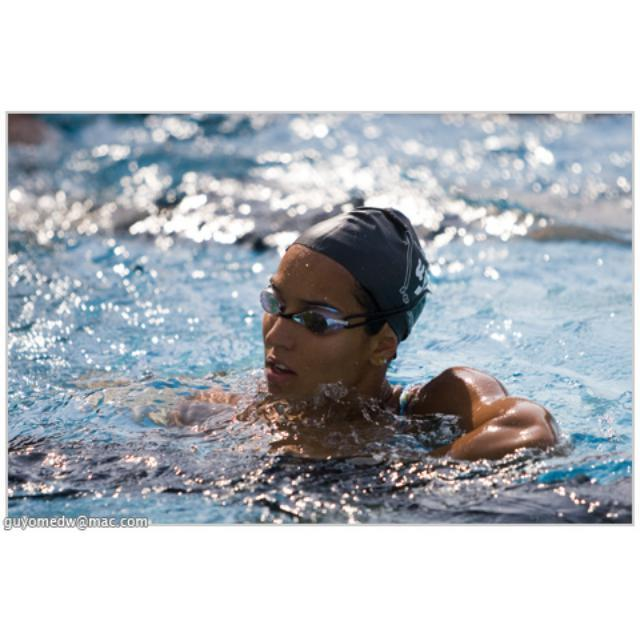human: (253, 203, 567, 471)
